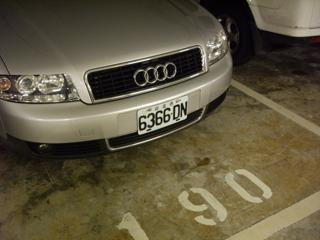plate: (137, 101, 188, 131)
